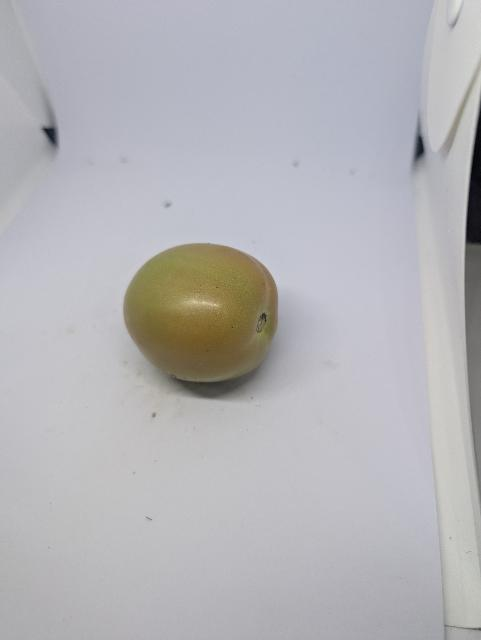breaker: (124, 243, 278, 383)
